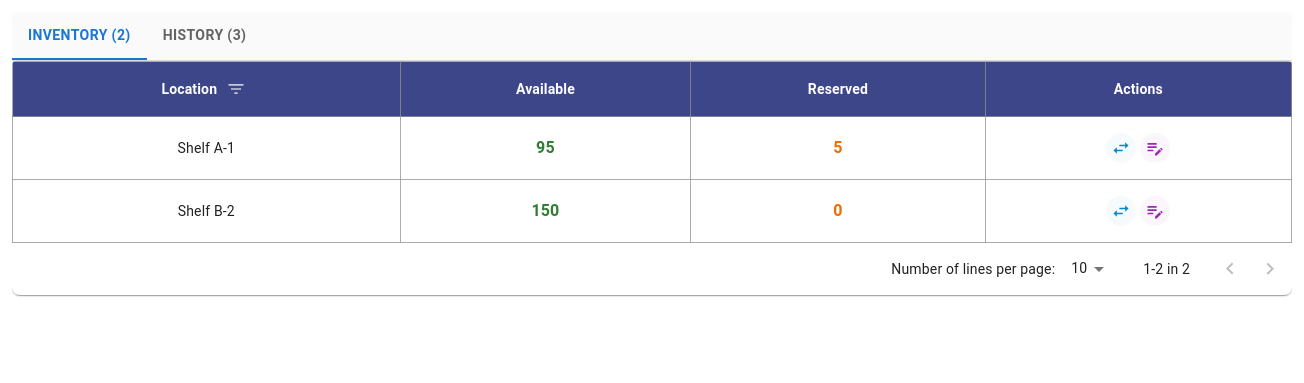
it: BatchTabsSection - Comprehensive Tests › History Tab › displays all movement rows
Step 1. Click the tab "History (3)" → x=205, y=36, box [147, 12, 262, 60]
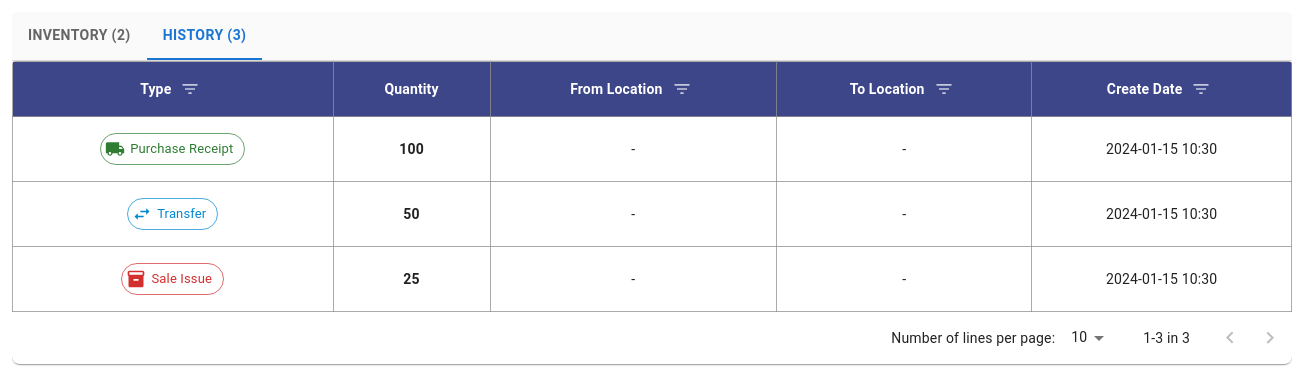
Expected: the text "Purchase Receipt" is shown, [130, 141, 233, 156]
Expected: the text "Transfer" is shown, [157, 206, 206, 221]
Expected: the text "Sale Issue" is shown, [152, 271, 212, 286]
